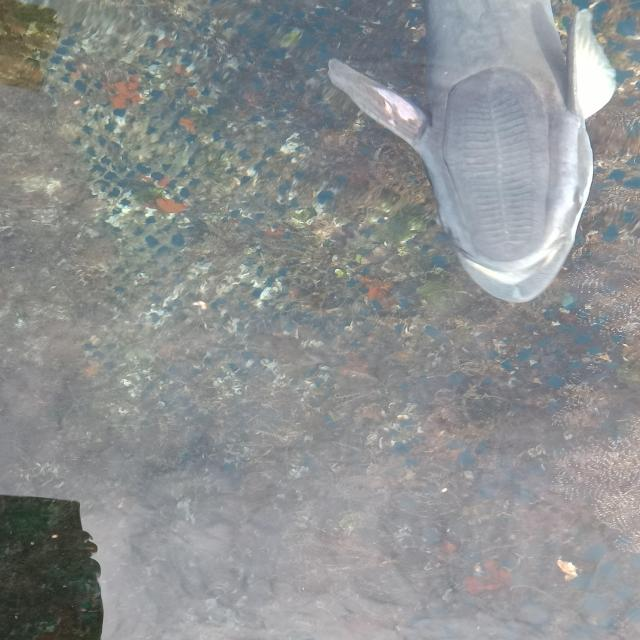ikan: (324, 0, 618, 304)
